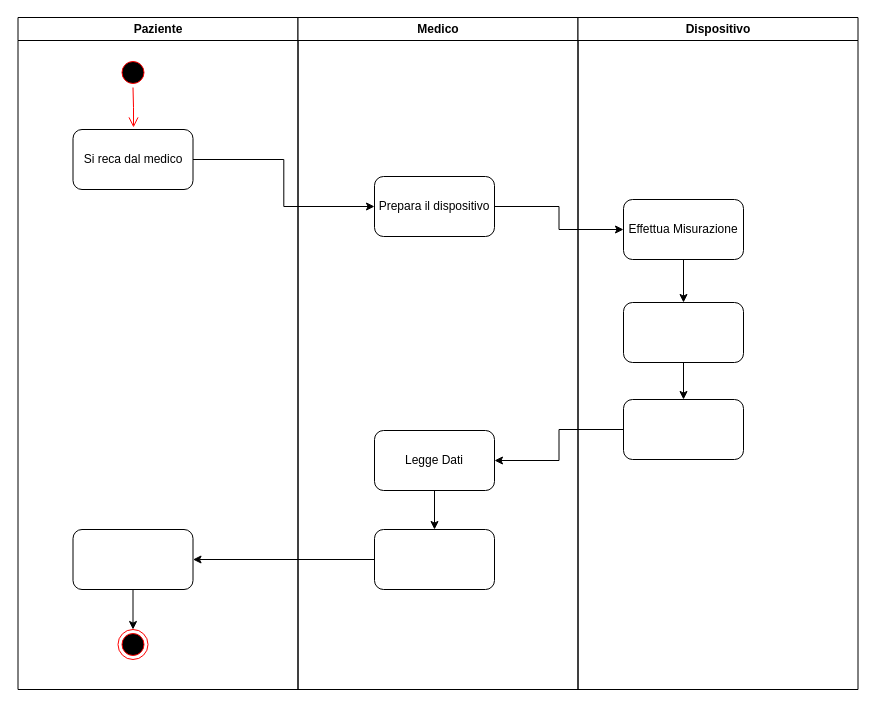
Image size: 875x707. Some labels were removed from this diagram. The shapes that lost their labels are listed below. From the top down, each one's centre as x and y in pixels, then its label:
At [683,332]: "Termina misurazione".
At [683,429]: "Stampa Dati".
At [132,559]: "Legge i dati".
At [434,559]: "Aggiunge dati al fascicolo medico".
